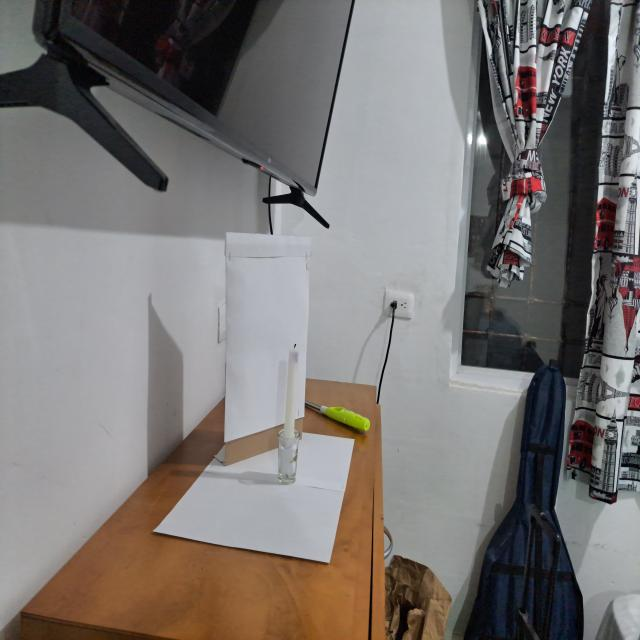candle: (275, 335, 304, 486)
wall: (223, 226, 308, 467)
